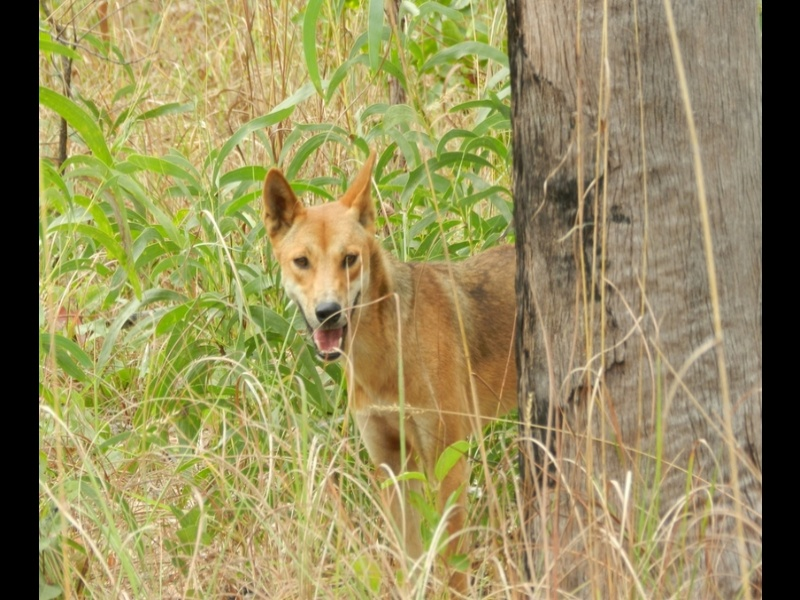dog: (264, 151, 523, 589)
